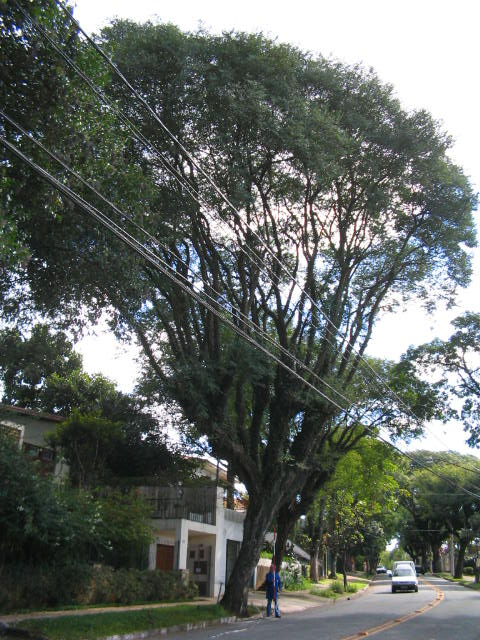crown: (86, 19, 471, 342)
stem: (214, 488, 267, 615)
stick: (268, 524, 279, 618)
tree: (83, 16, 476, 618)
